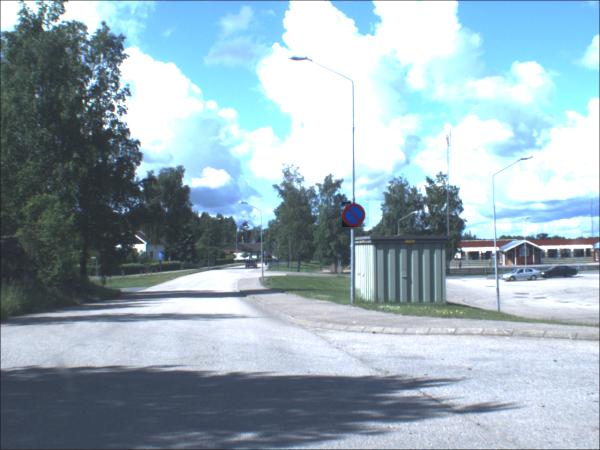NO_PARKING: (343, 204, 371, 230)
